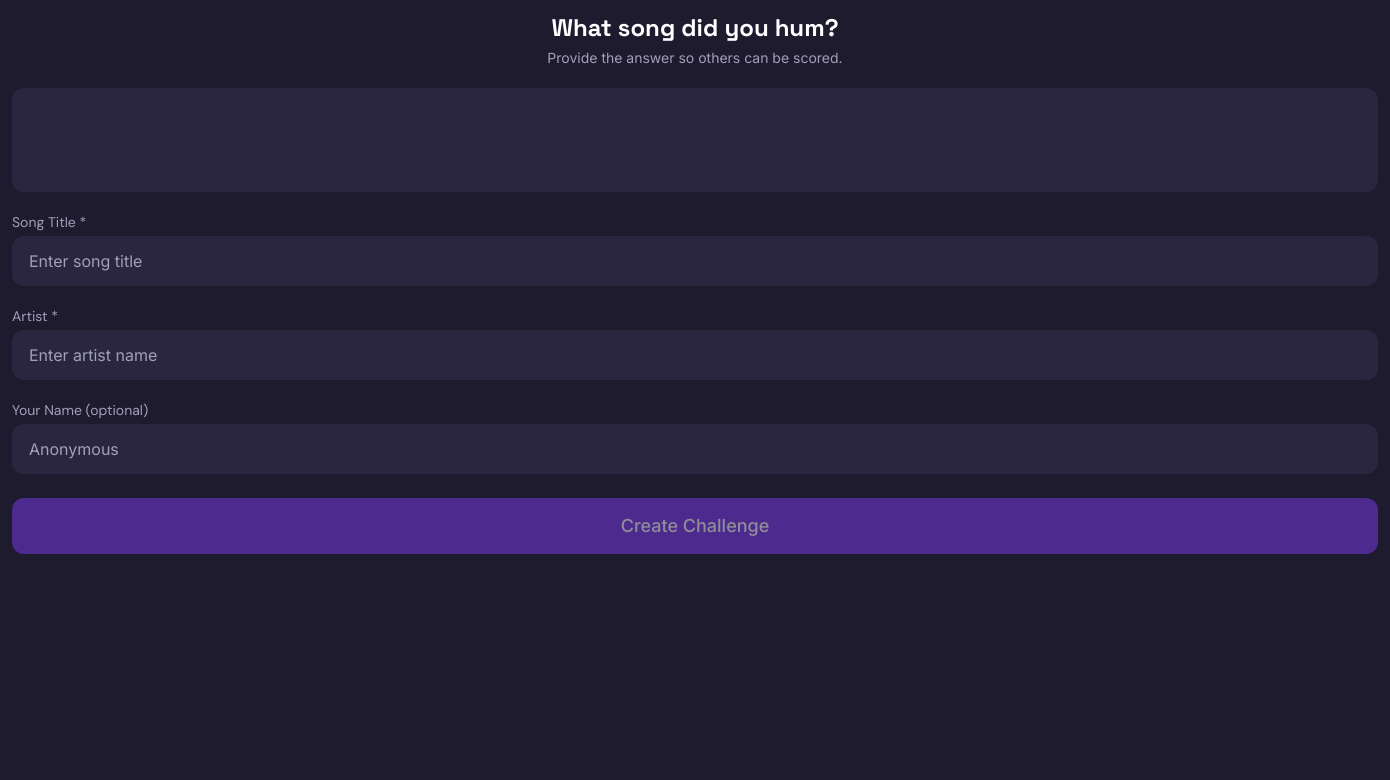
Test: ChallengeCreationForm — submit button disabled states › submit button is enabled when both title and artist are filled
Type "Imagine" into the field labelled "Song Title *" at point(695, 261), box [12, 236, 1378, 286]
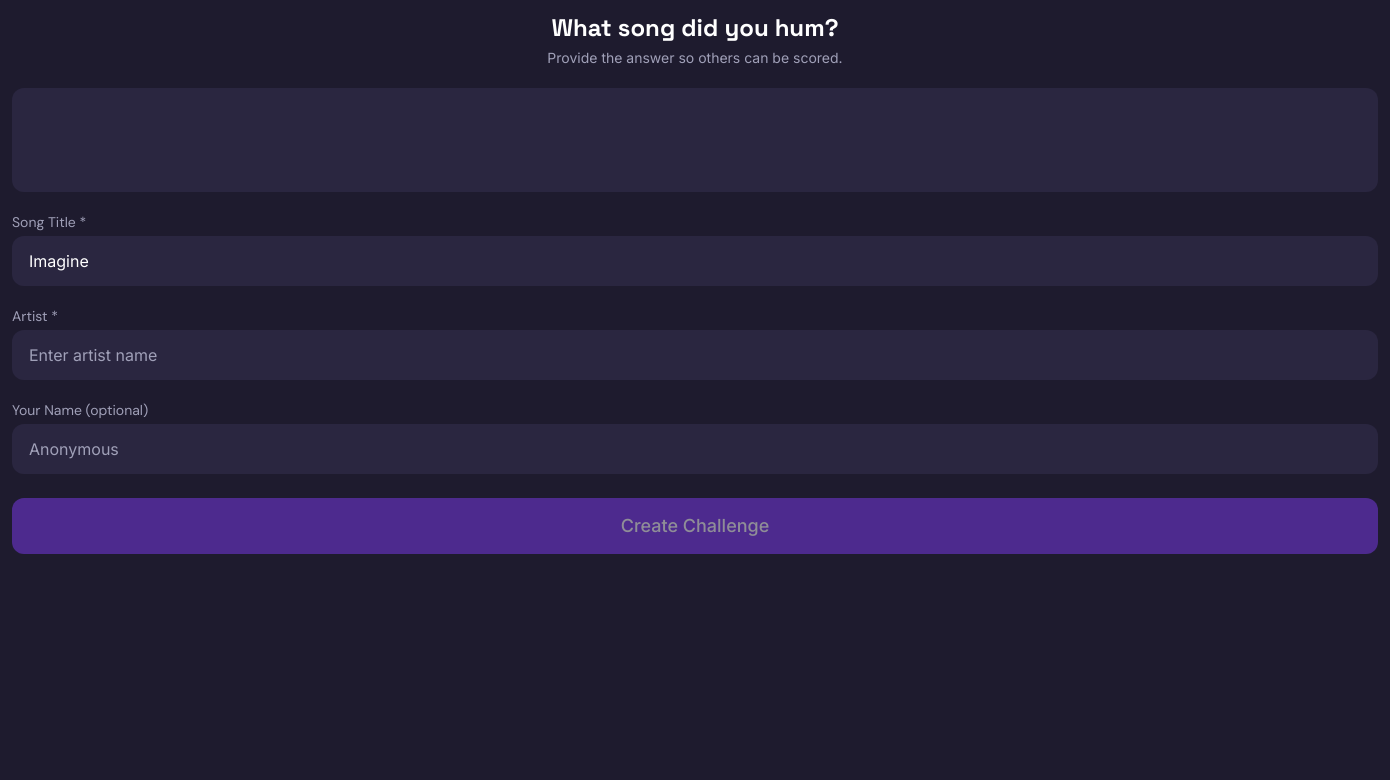
Type "John Lennon" into the field labelled "Artist *" at point(695, 355), box [12, 330, 1378, 380]
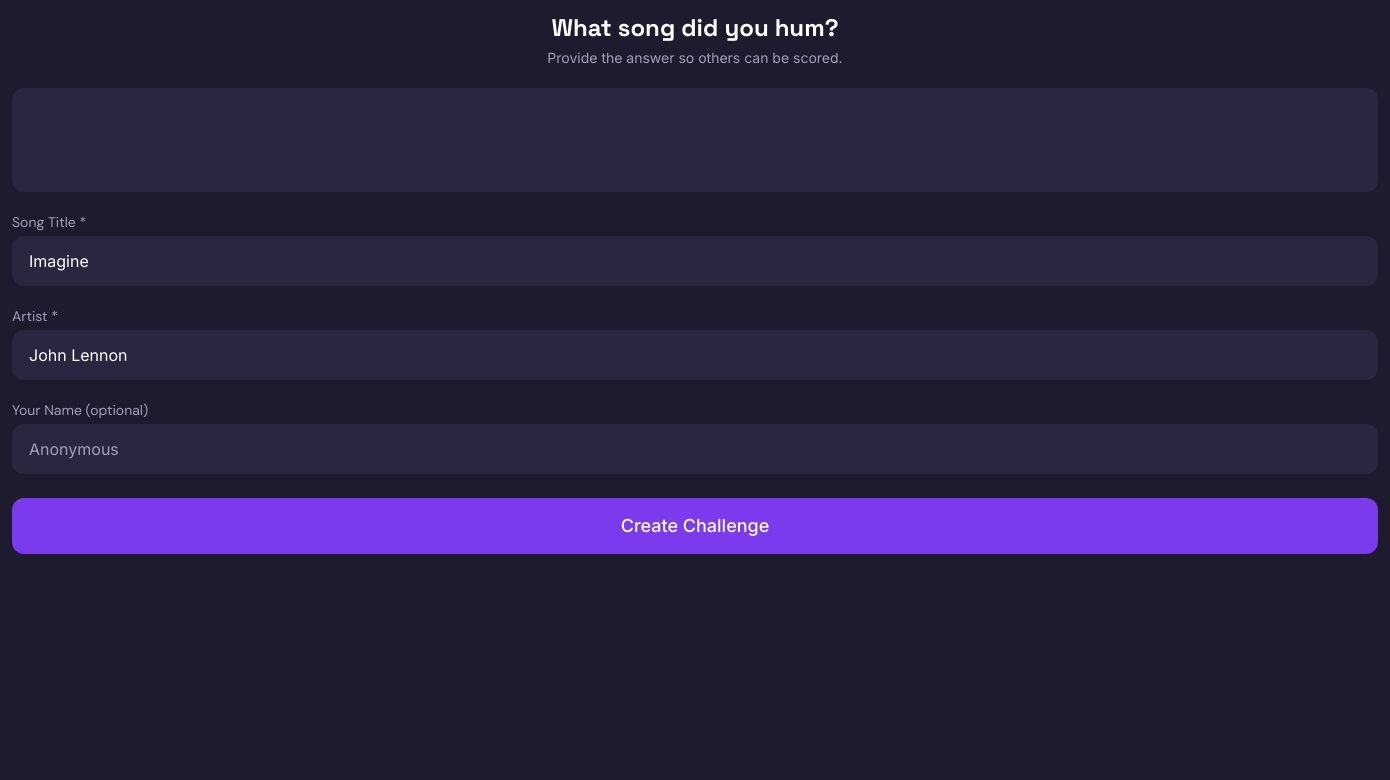
Expected: the button "Create Challenge" is enabled, [12, 498, 1378, 554]
